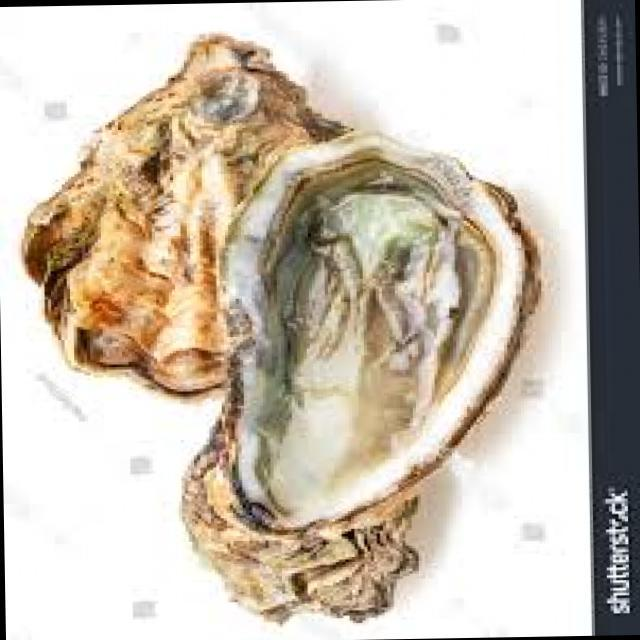Oyster-Closed: (148, 417, 441, 640)
Oyster-Open: (127, 87, 580, 590)
